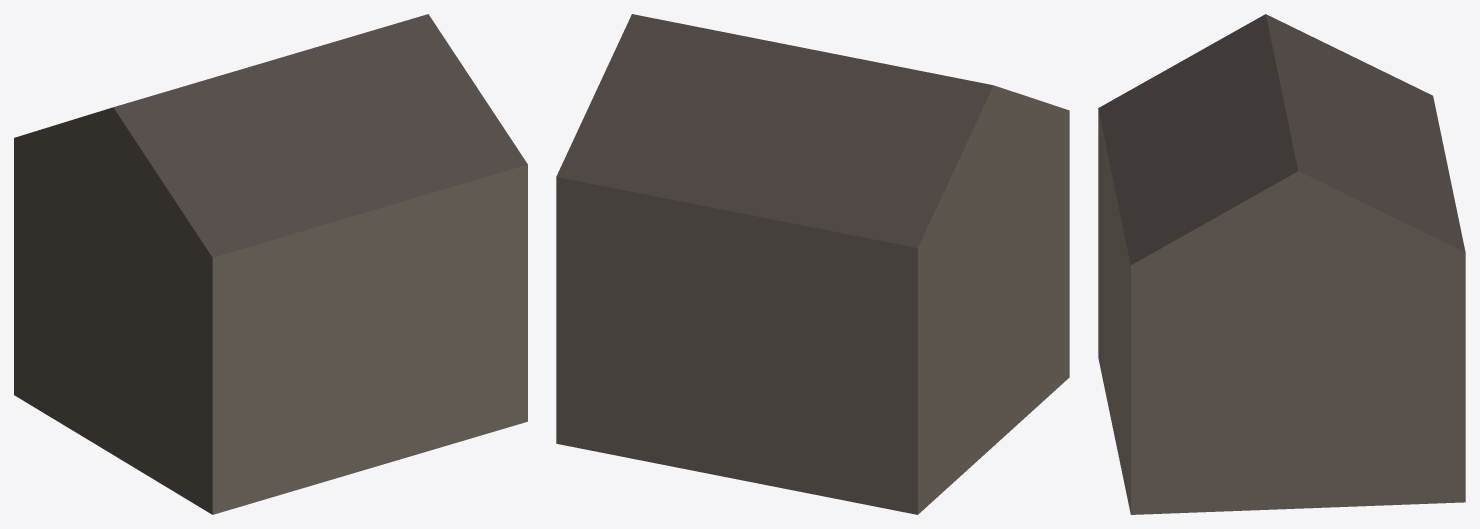
3 renders of one model, left to right at view 1: azimuth 30°, elevation 25°; view 2: azimuth 150°, elevation 25°; view 3: azimuth 270°, elevation 25°, orthographic. The views are drawn at different scales.
Visible parts, largest first — view 1: HP-w859424249; view 2: HP-w859424249; view 3: HP-w859424249.
Boxes of the visible parts, x1,y1,x2,y2 form: HP-w859424249: (14, 14, 527, 514); HP-w859424249: (556, 14, 1069, 514); HP-w859424249: (1098, 14, 1465, 514).
Bounding box in the file's own units: 8.75 × 8.11 × 8.01.
